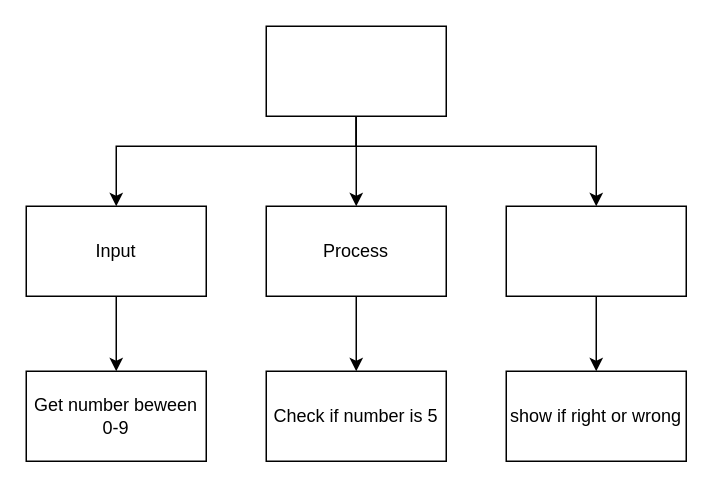
The diagram is 713 pixels wide and 488 high, and some of its shapes have lost their labels. Here are the shapes that lost their labels. From the top down, the centre of each, then its label:
At (x=355, y=70): "Guess the number".
At (x=595, y=250): "Output".
